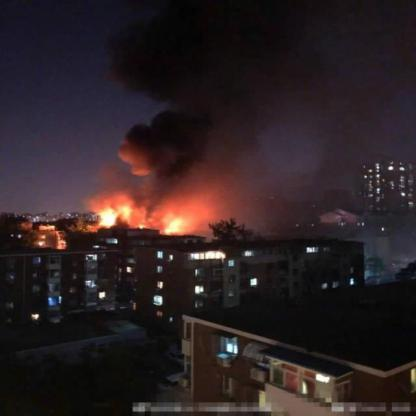smoke: (123, 5, 341, 88), (125, 108, 271, 178)
